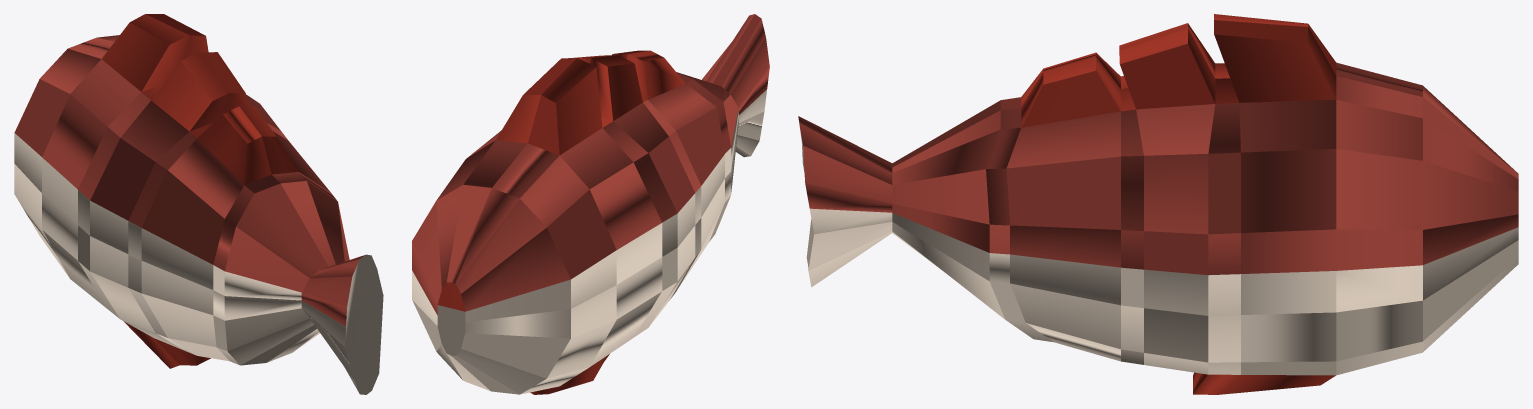
Rendered from fish09.fbx.
3 renders of one model, left to right at view 1: azimuth 30°, elevation 25°; view 2: azimuth 150°, elevation 25°; view 3: azimuth 270°, elevation 25°, orthographic. The views are drawn at different scales.
Visible parts, largest first — view 1: Cube_1; view 2: Cube_1; view 3: Cube_1.
Part boxes in pixels (left/top/right/bottom): Cube_1: left=14, top=14, right=383, bottom=394; Cube_1: left=412, top=14, right=769, bottom=394; Cube_1: left=798, top=14, right=1518, bottom=394.
Size of the model in its own units: 31.89 by 50.23 by 86.41.
